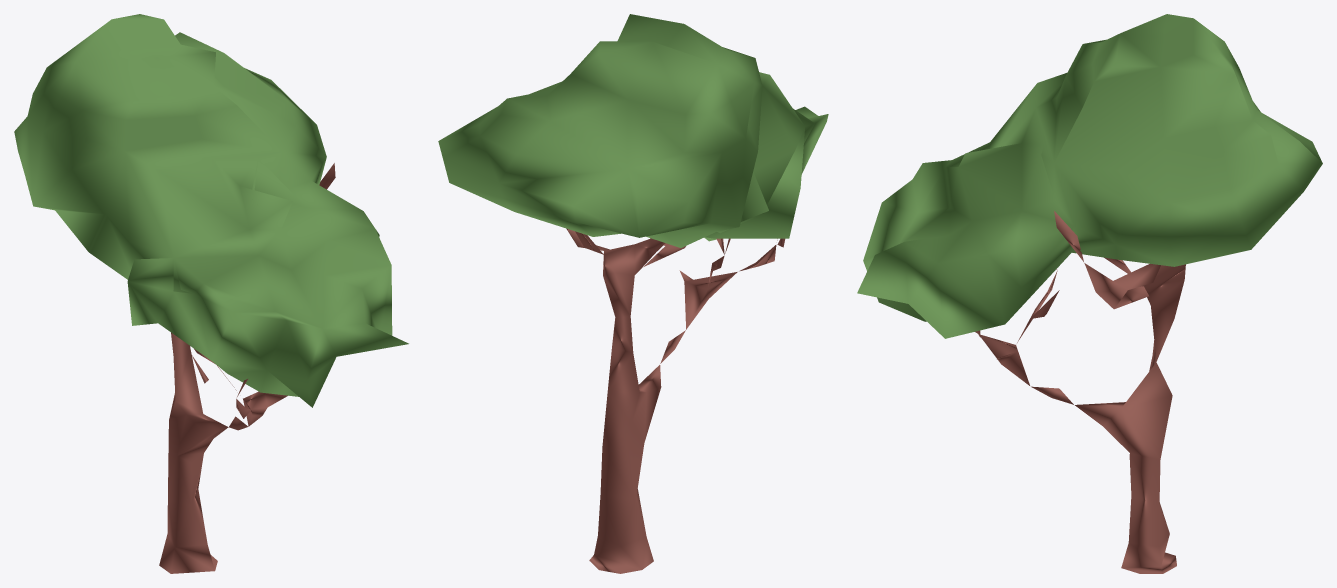
Rendered from CommonTree_2_lod.glb.
3 views of the same model, side by side, from view 1: azimuth 30°, elevation 25°; view 2: azimuth 150°, elevation 25°; view 3: azimuth 270°, elevation 25° (orthographic). The views are drawn at different scales.
Parts seen in each view (by area): view 1: CommonTree_2; view 2: CommonTree_2; view 3: CommonTree_2.
Part boxes in pixels (x1=…): CommonTree_2: x1=14, y1=14, x2=408, y2=573; CommonTree_2: x1=438, y1=14, x2=828, y2=573; CommonTree_2: x1=857, y1=14, x2=1322, y2=573.
Size of the model in its own units: 166 by 312 by 254.
